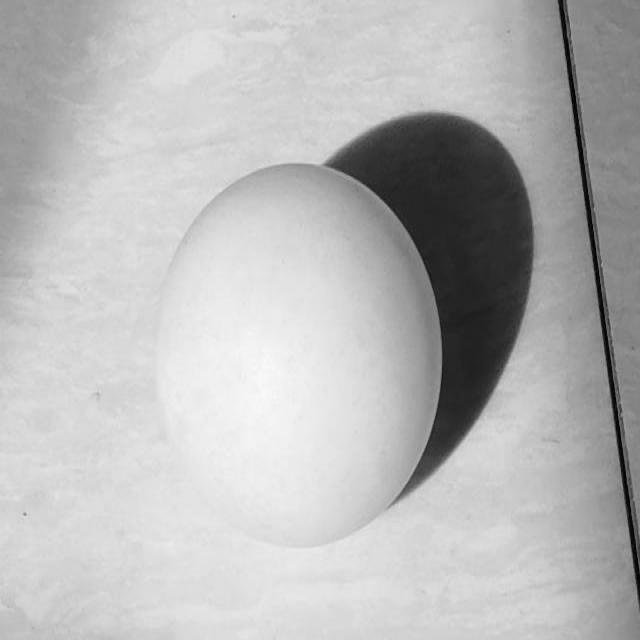ping-pong-ball: (156, 177, 433, 548)
